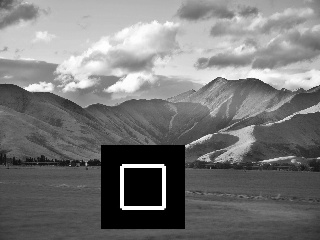square: (101, 145, 185, 229)
